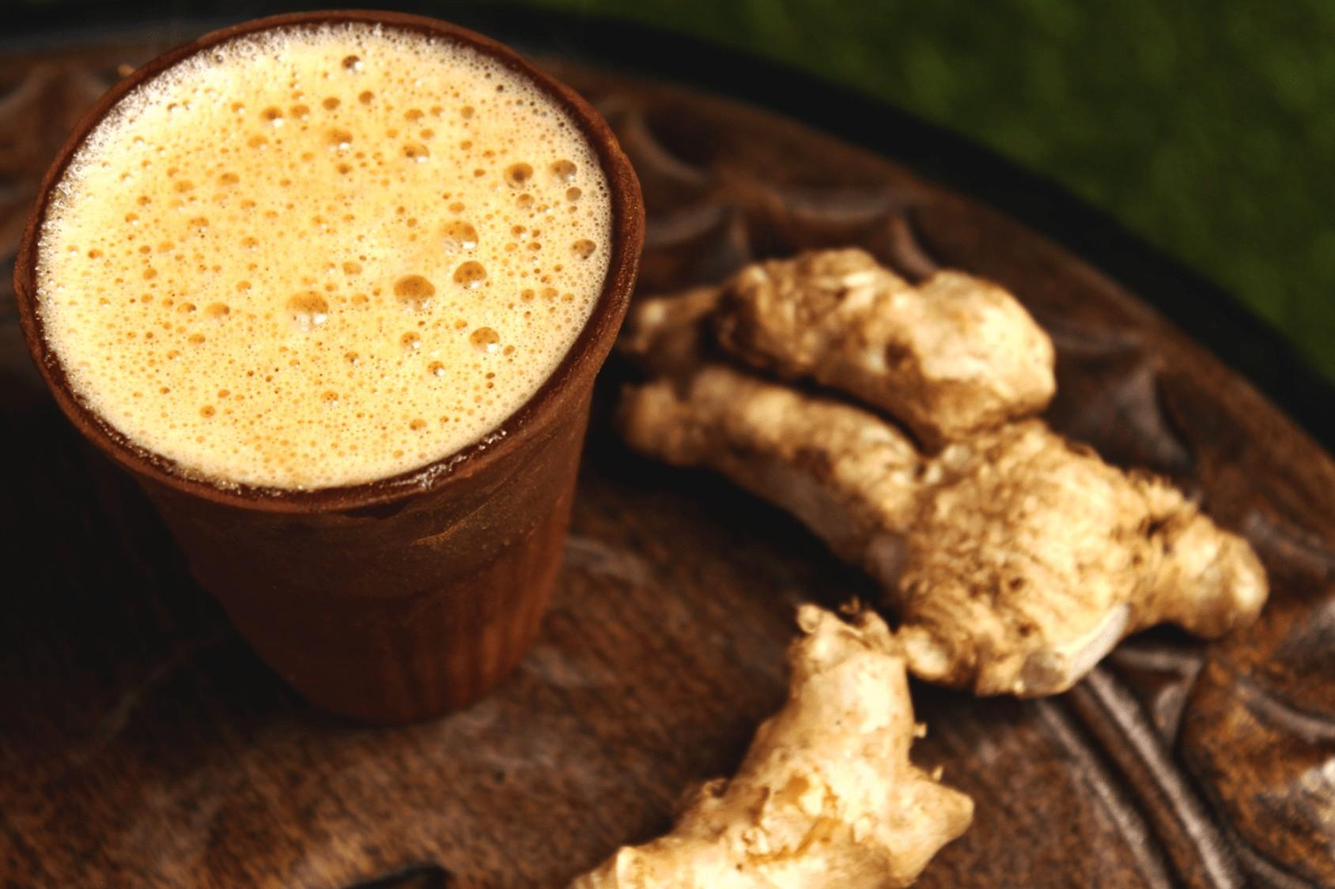Chai: (35, 23, 608, 488)
